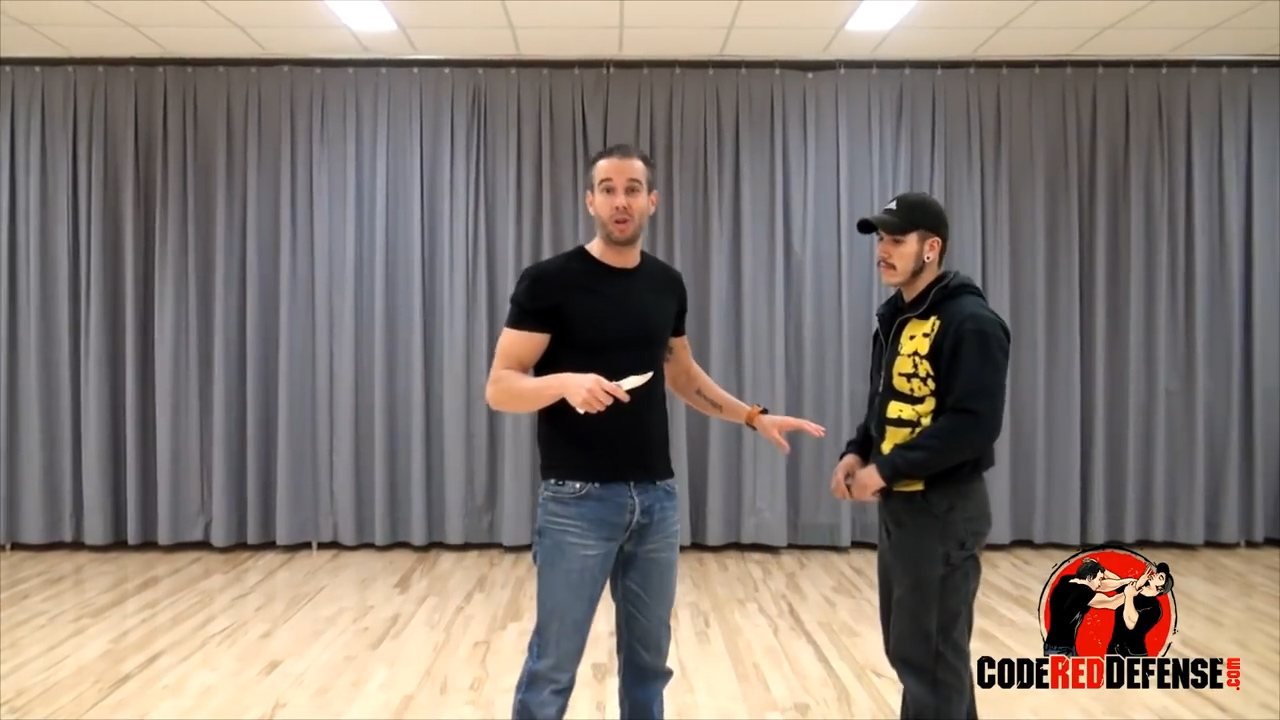knife: (570, 364, 659, 419)
